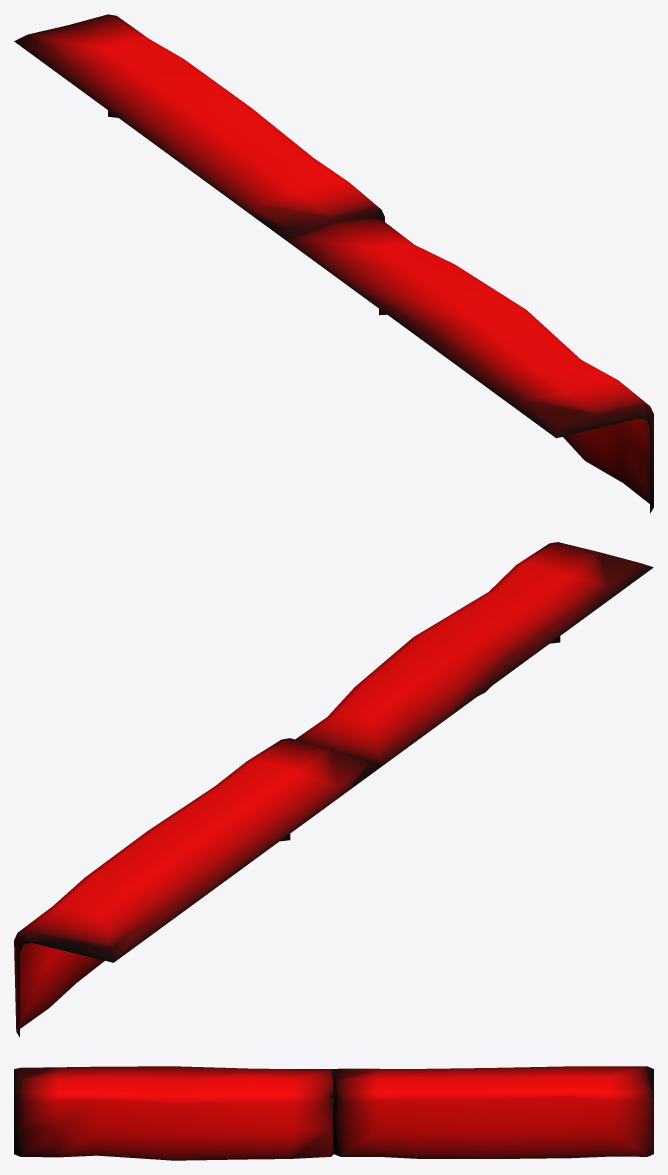
File: curb_2_c.fbx
3 views of the same model, one above another, from view 1: azimuth 30°, elevation 25°; view 2: azimuth 150°, elevation 25°; view 3: azimuth 270°, elevation 25° (orthographic). The views are drawn at different scales.
Visible parts, largest first — view 1: curb_2_c; view 2: curb_2_c; view 3: curb_2_c.
Boxes of the visible parts, bbox=[...] form: curb_2_c: bbox=[14, 14, 653, 513]; curb_2_c: bbox=[14, 542, 653, 1037]; curb_2_c: bbox=[14, 1066, 653, 1160].
Bounding box in the file's own units: 0.2481 × 0.2267 × 2.
